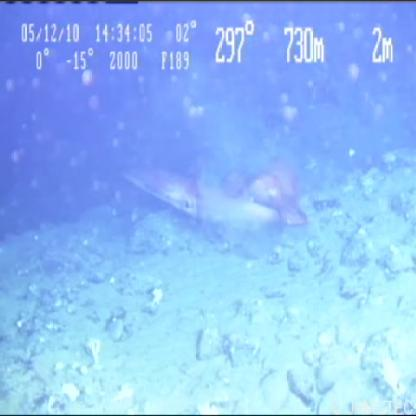Bio: (109, 146, 314, 242)
